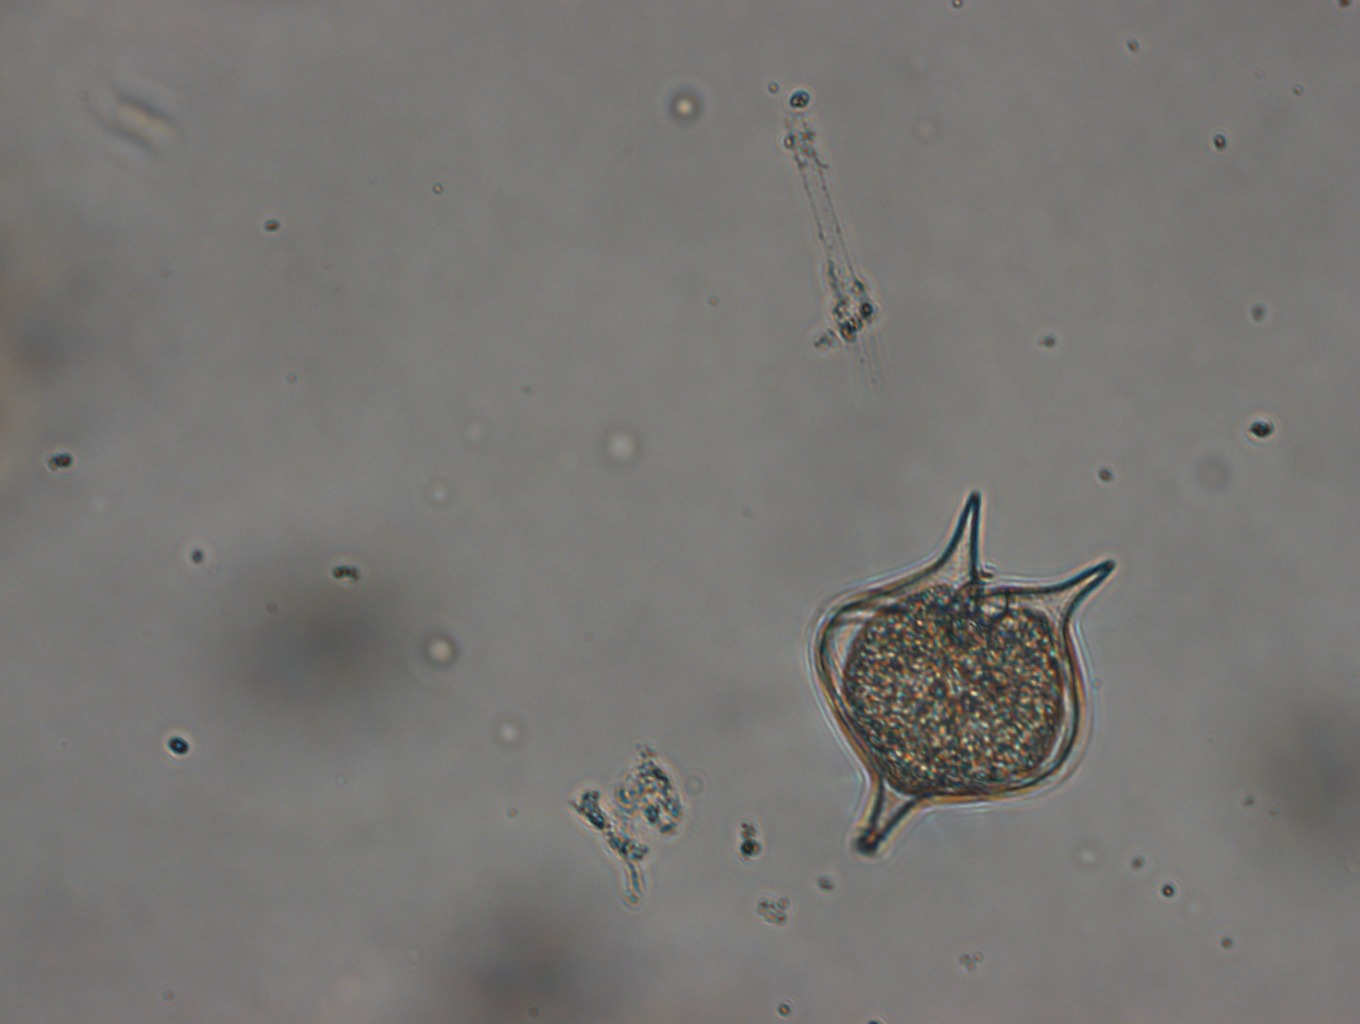protoperidinium: (814, 481, 1121, 858)
